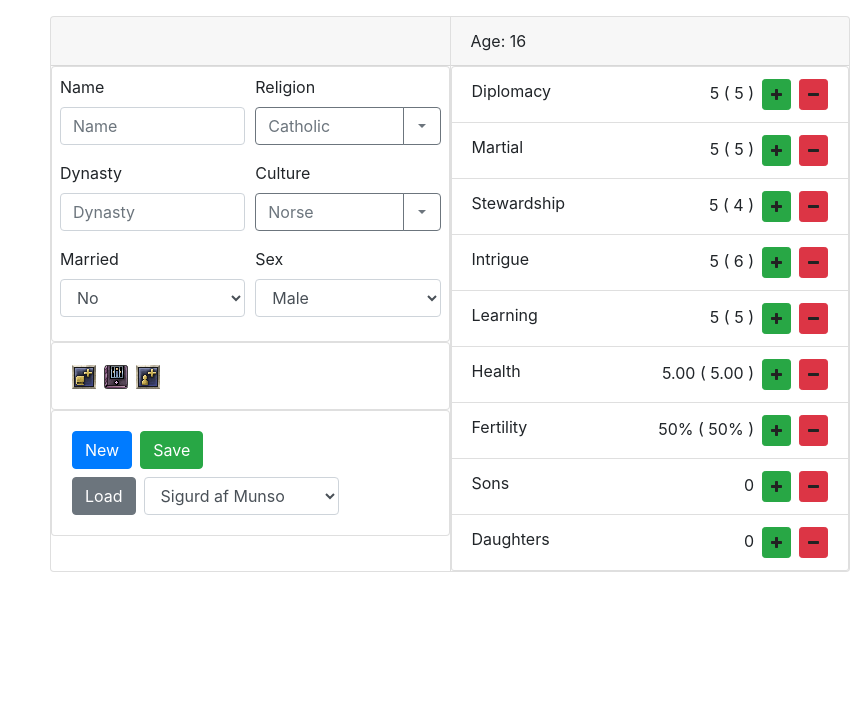
pops up trait tooltip when a characters education is hovered over
The image size is (867, 713).
Hover over the picture with alt text "Amateurish Plotter Character Education" at point(116, 377), box [104,365,128,389]
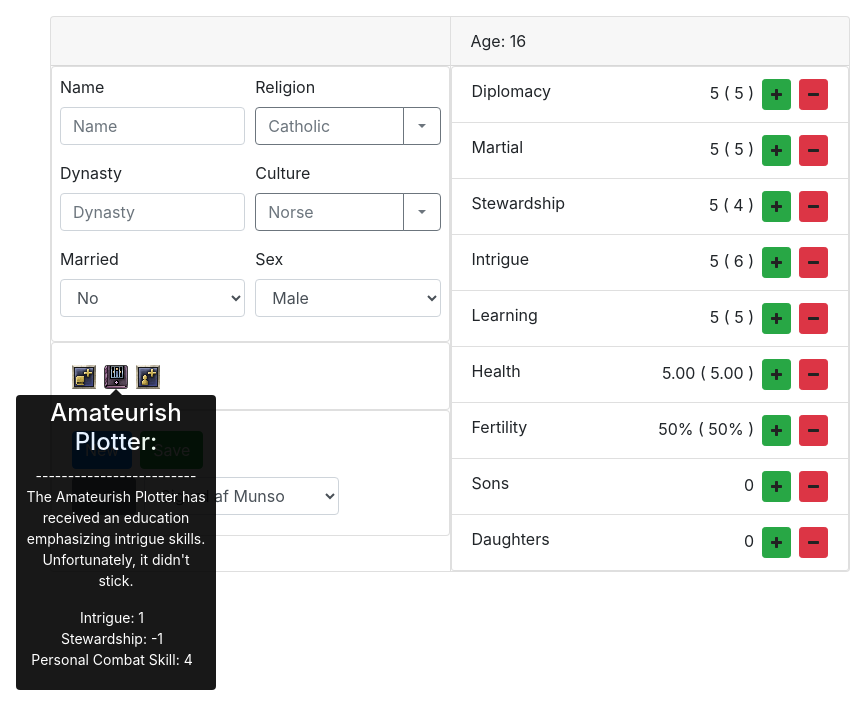
Check: the tooltip named "Amateurish Plotter Trait Tooltip" is shown, box [16,389,216,696]
